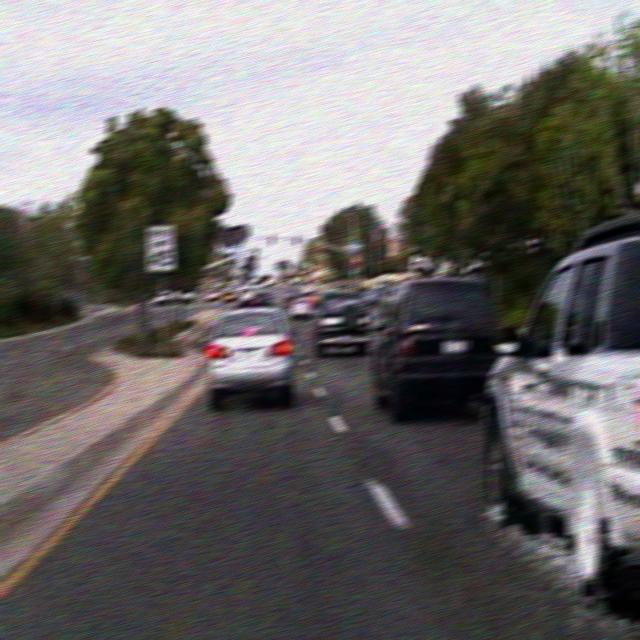speedLimit45: (144, 223, 174, 270)
